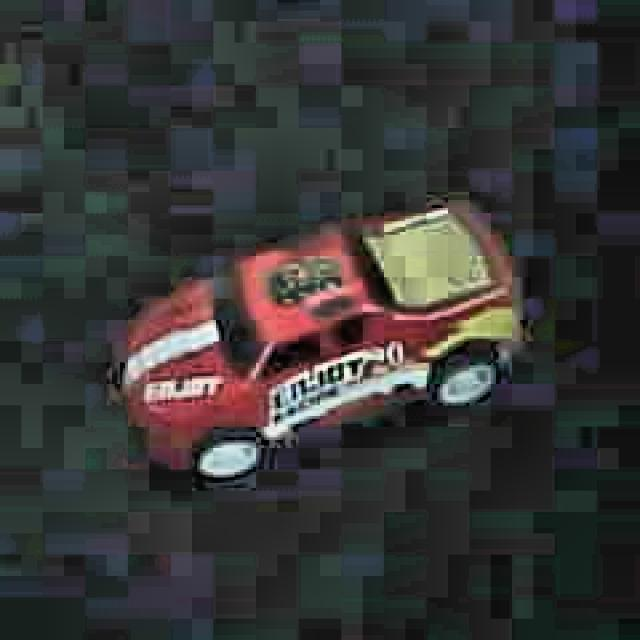car: (112, 189, 526, 485)
